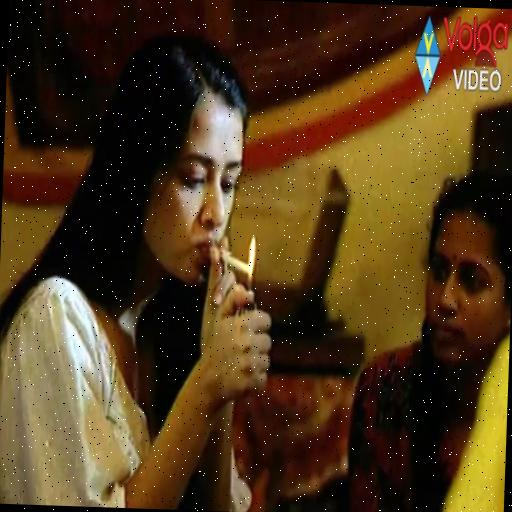membakar rokok: (180, 134, 267, 323)
